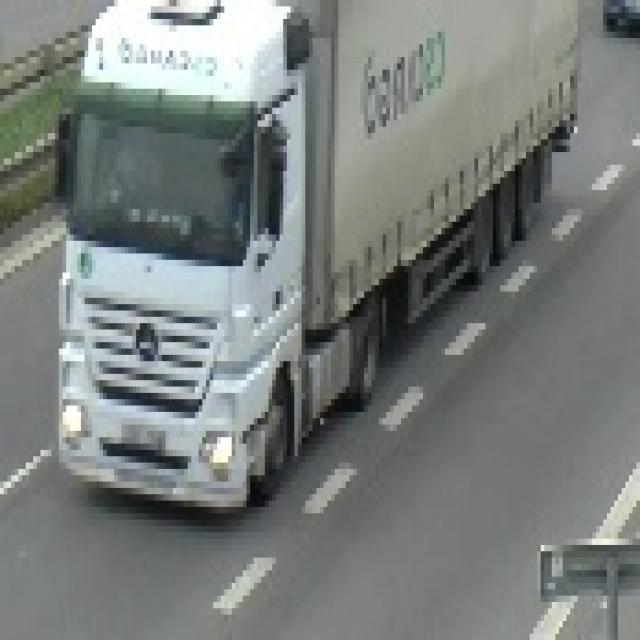TRUCK: (61, 0, 589, 515)
